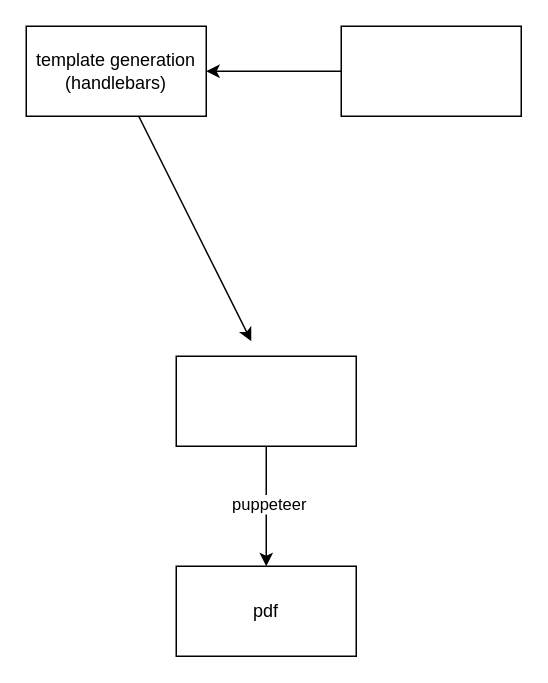
This 548x683 diagram has some shape labels left out. The box of each missing label's shape, as (x1, y1, x2, y2) in pixels:
Data Generate (services) query: (340, 25, 521, 116)
html: (175, 355, 356, 446)
